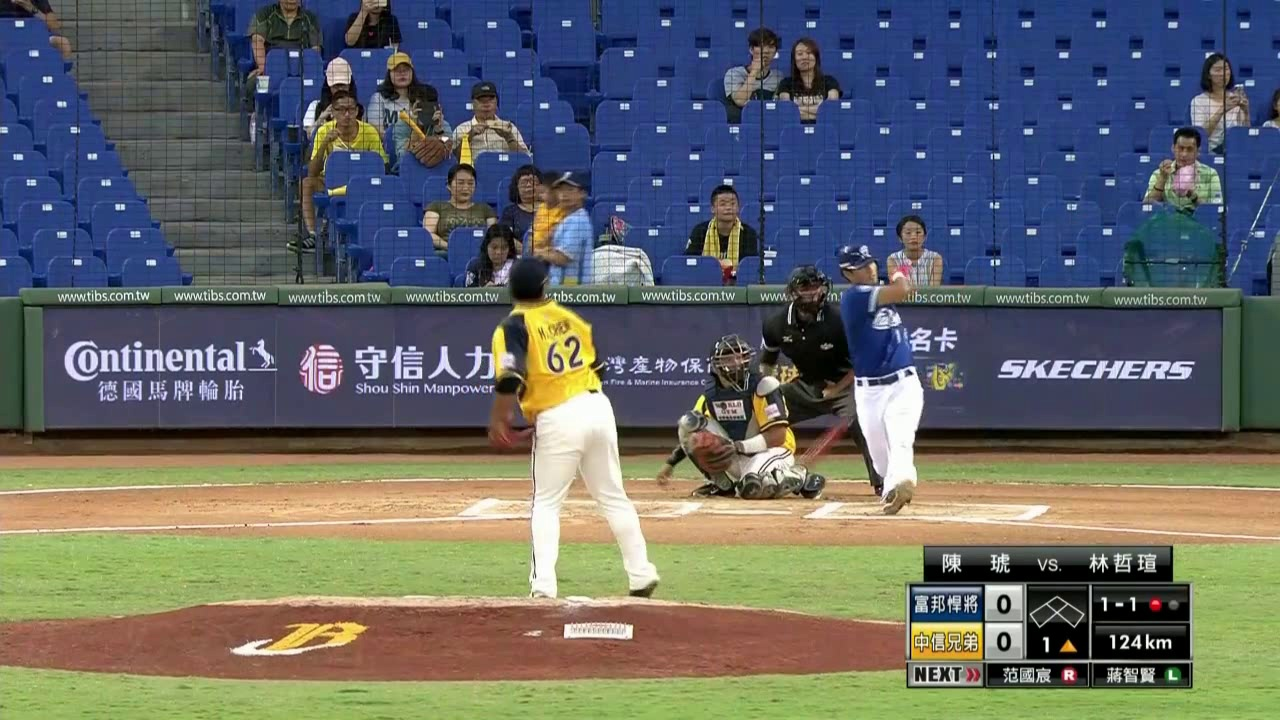base: (1027, 589, 1087, 632)
bat: (799, 409, 857, 464)
out: (1143, 592, 1181, 614)
score1: (991, 590, 1011, 617)
score2: (992, 630, 1018, 655)
session: (1036, 634, 1082, 659)
speed: (1095, 626, 1180, 653)
strikeball: (1093, 591, 1142, 619)
